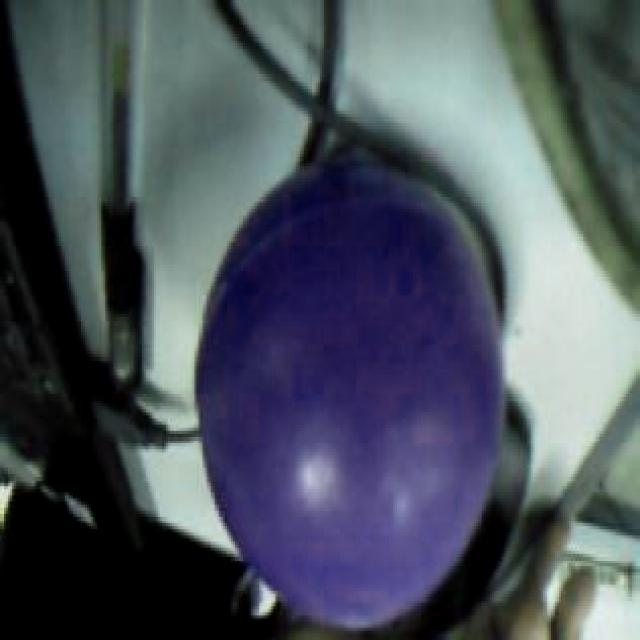BallPurple: (196, 164, 501, 628)
